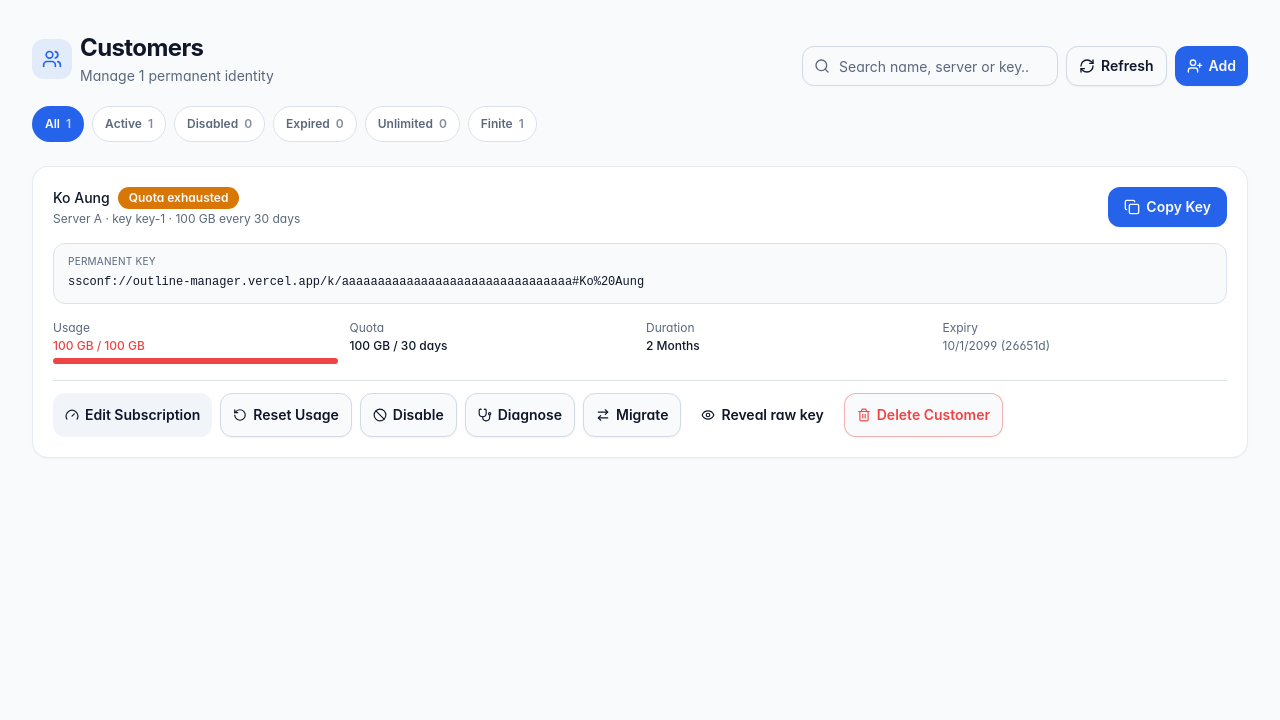
it: customer usage reset UI › renders a reachable reset button and explains the exact effect
What coordinates should you click on to do the following:
click the button "Reset Usage"
I would click on:
 (286, 414)
Its box is [220,392,352,436].
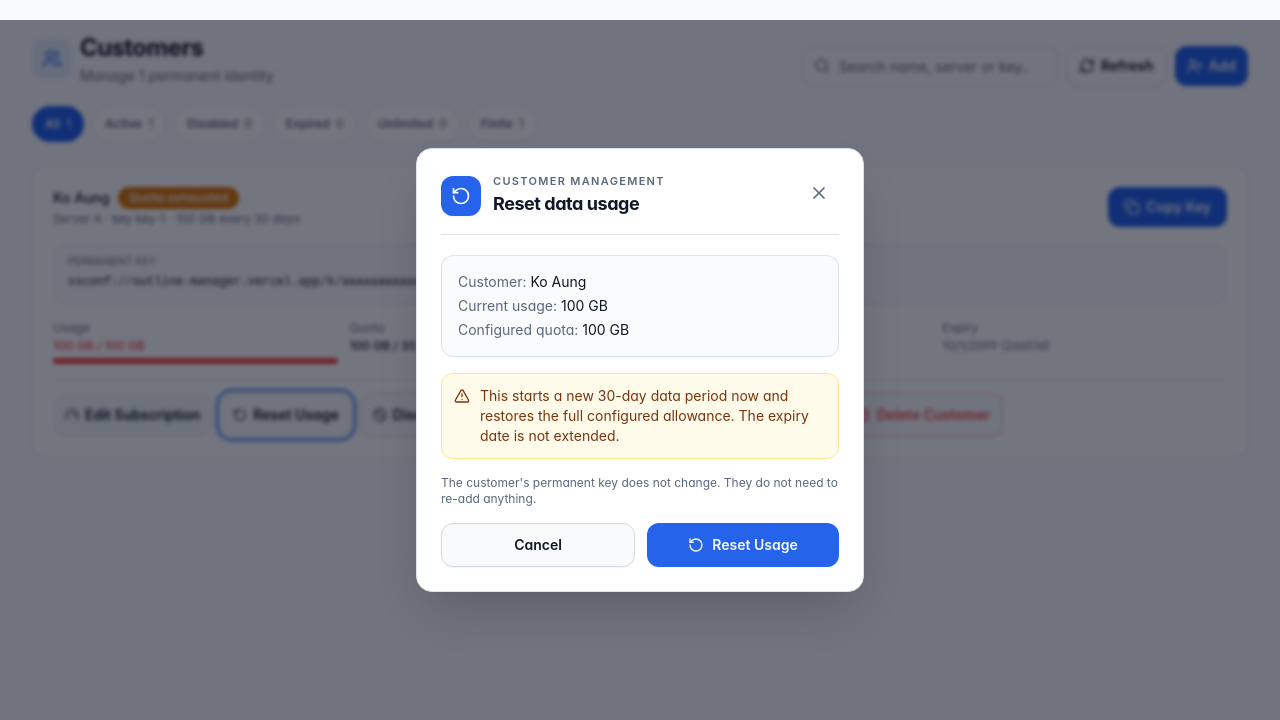
Now the dialog "Reset data usage" is shown, box [416,148,864,592]
Now the text "expiry date is not extended" is shown, box [480,387,809,444]
Now the text "permanent key does not change" is shown, box [441,475,838,506]
